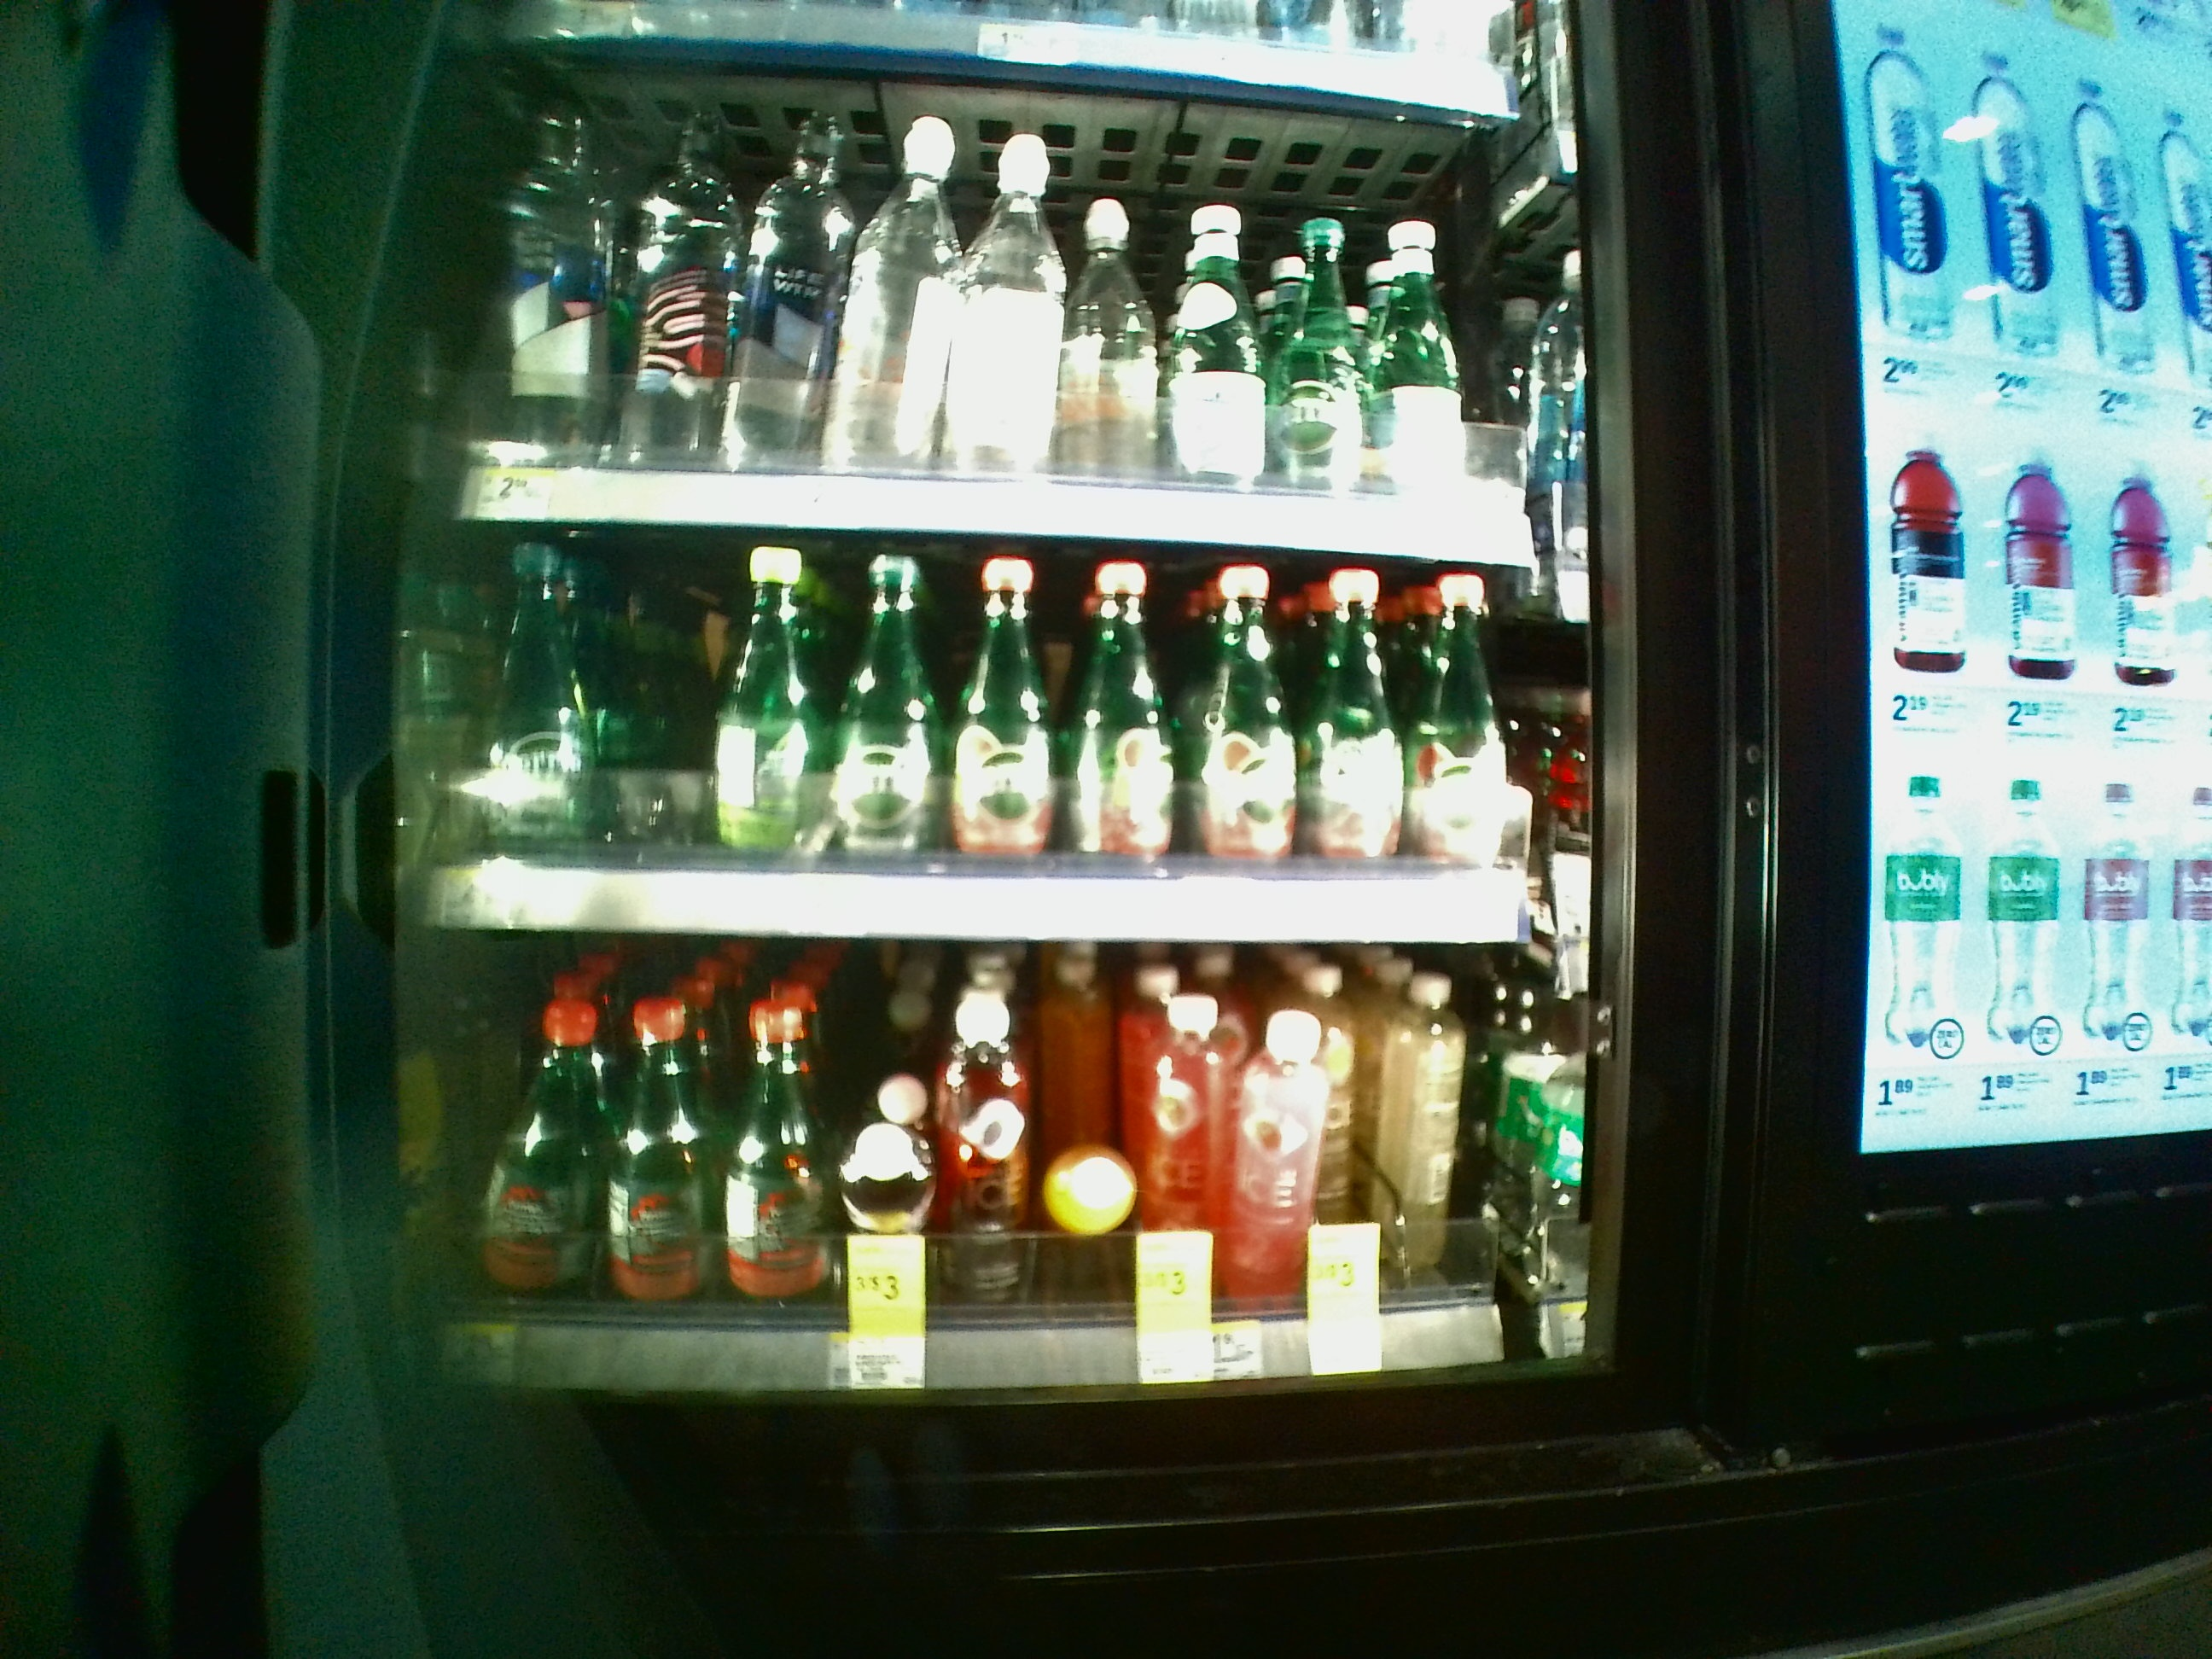shelf: (387, 56, 1555, 575), (381, 950, 1606, 1401), (383, 572, 1599, 950)
